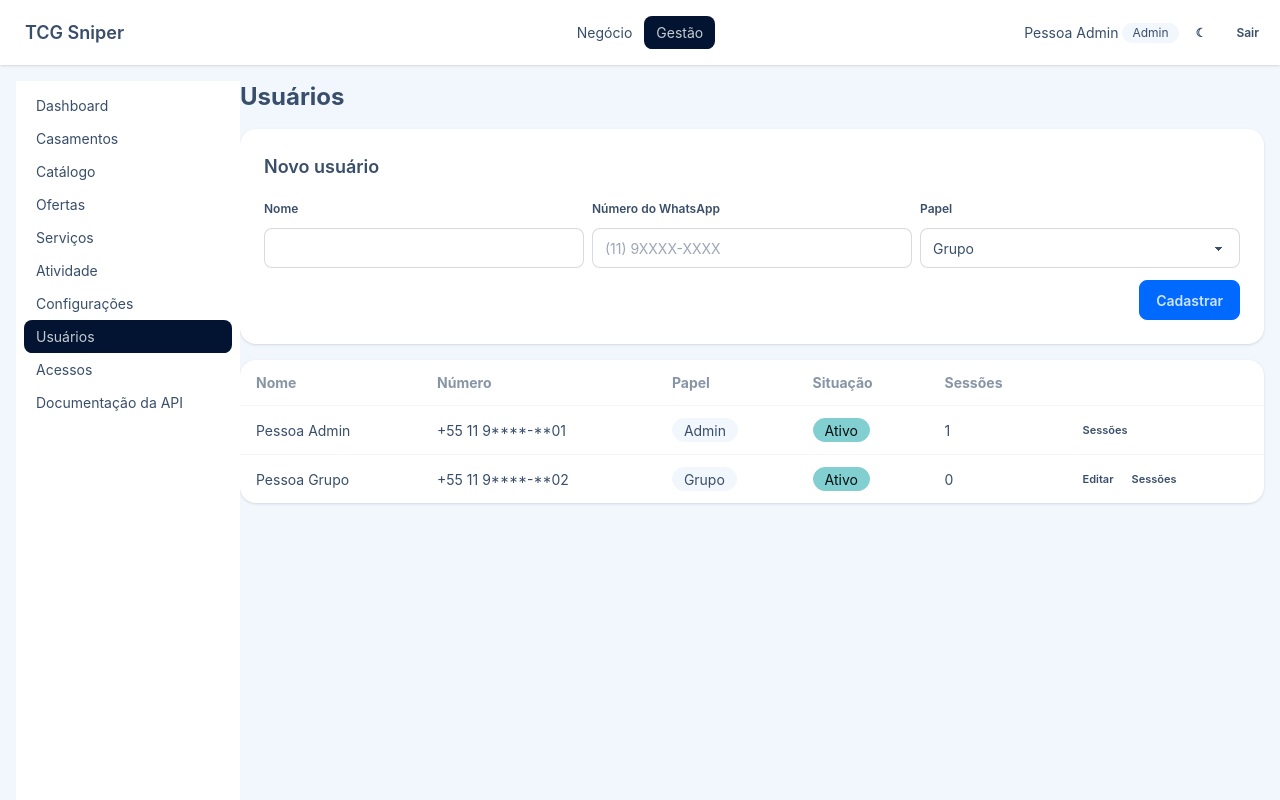
Test case: Gestão → Usuários › lista com número mascarado e cadastra
Check: the text "+55 11 9****-**02" is shown, box [421, 455, 656, 503]
In the field labelled "Nome": point(424, 248) [264, 228, 584, 268], type "Pessoa Nova"
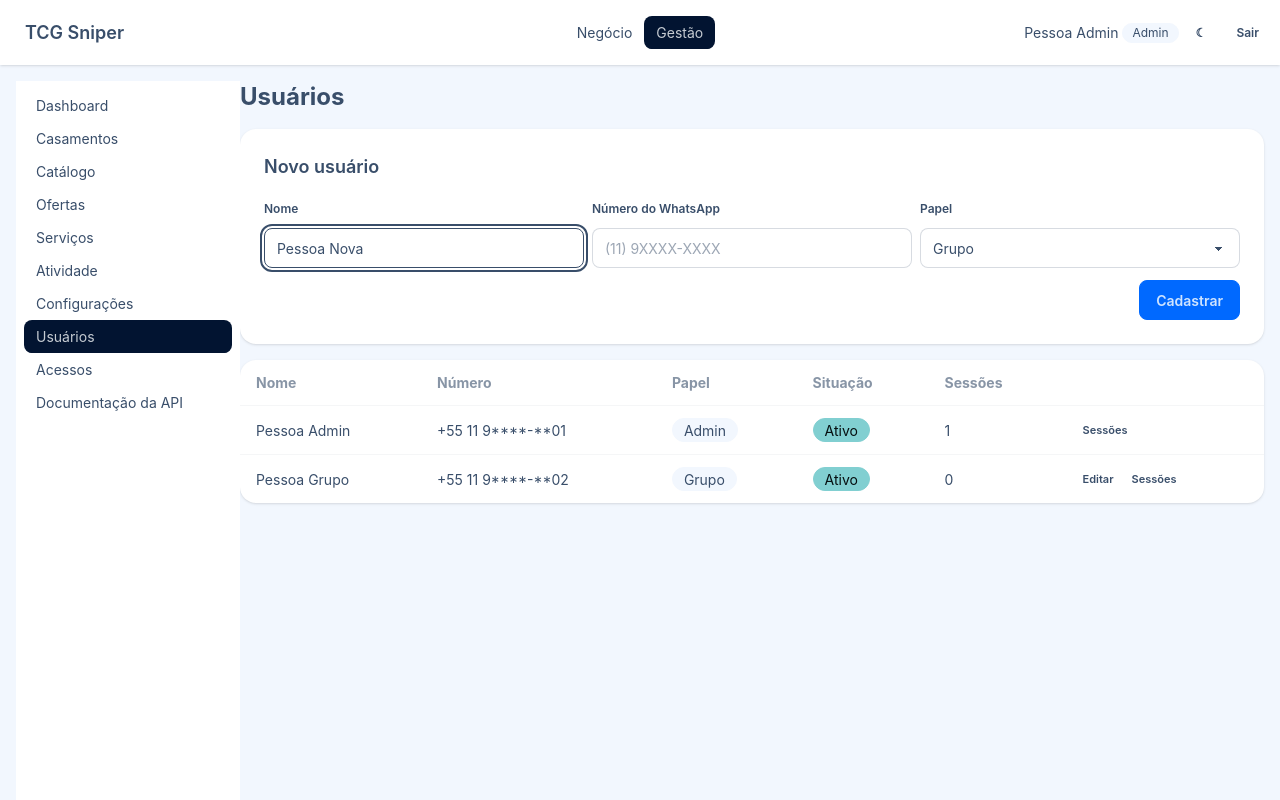
In the field labelled "Número do WhatsApp": point(752, 248) [592, 228, 912, 268], type "(11) 90000-0009"
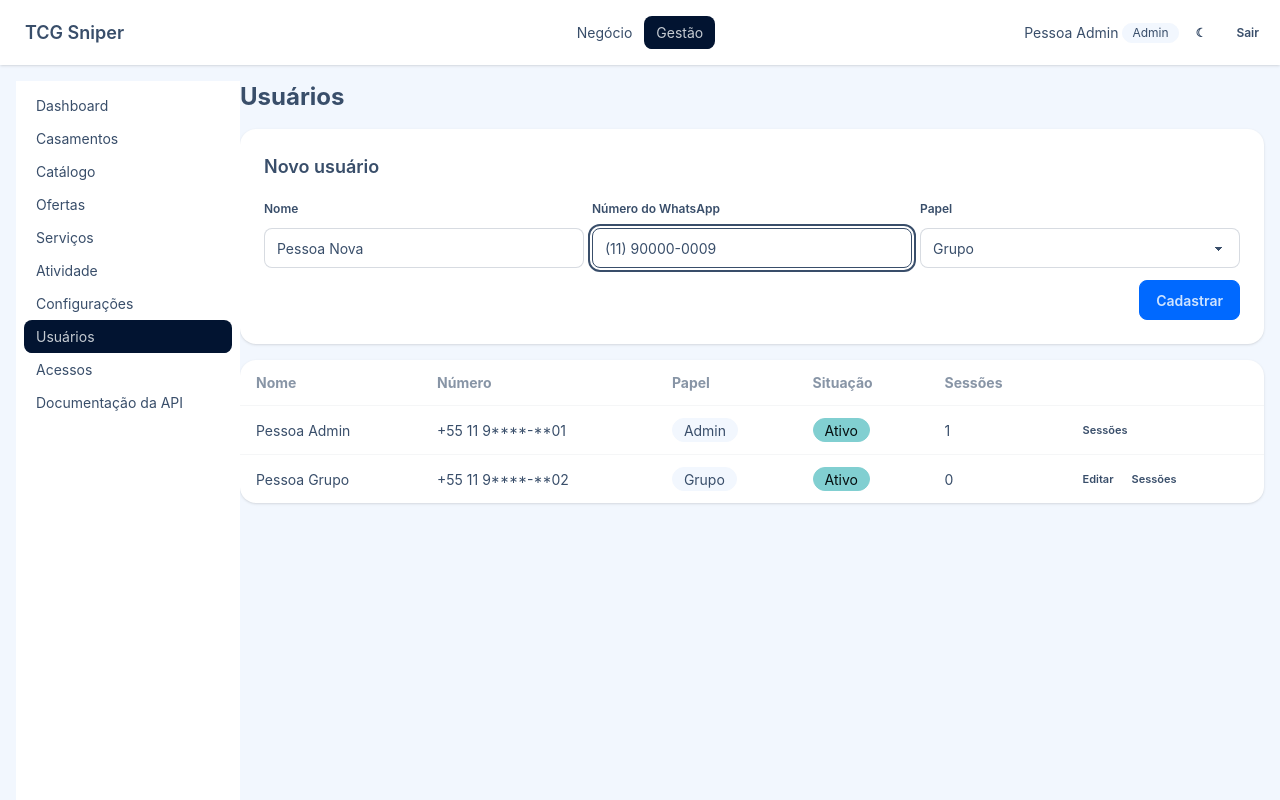
Select "Operador" in the dropdown labelled "Papel": point(1080, 248) [920, 228, 1240, 268]
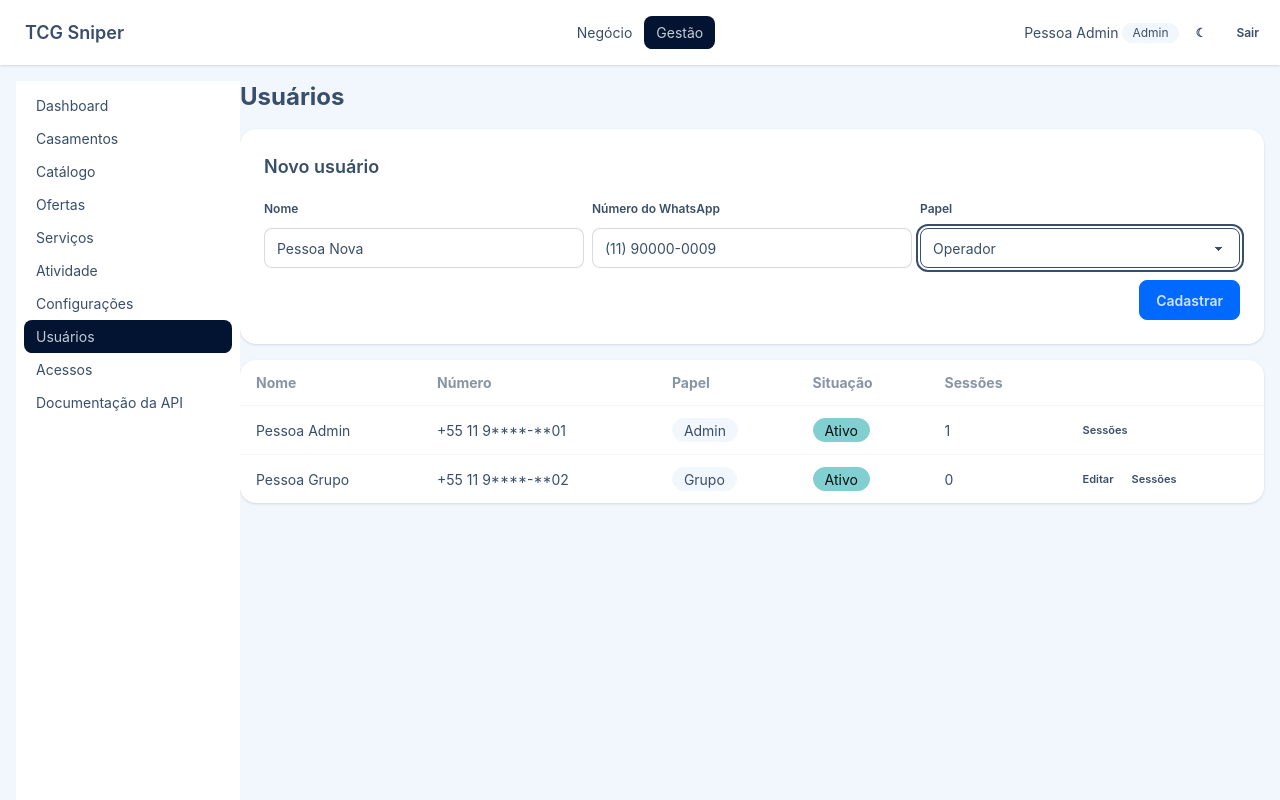
Click the button "Cadastrar": point(1190, 300) [1139, 280, 1240, 320]
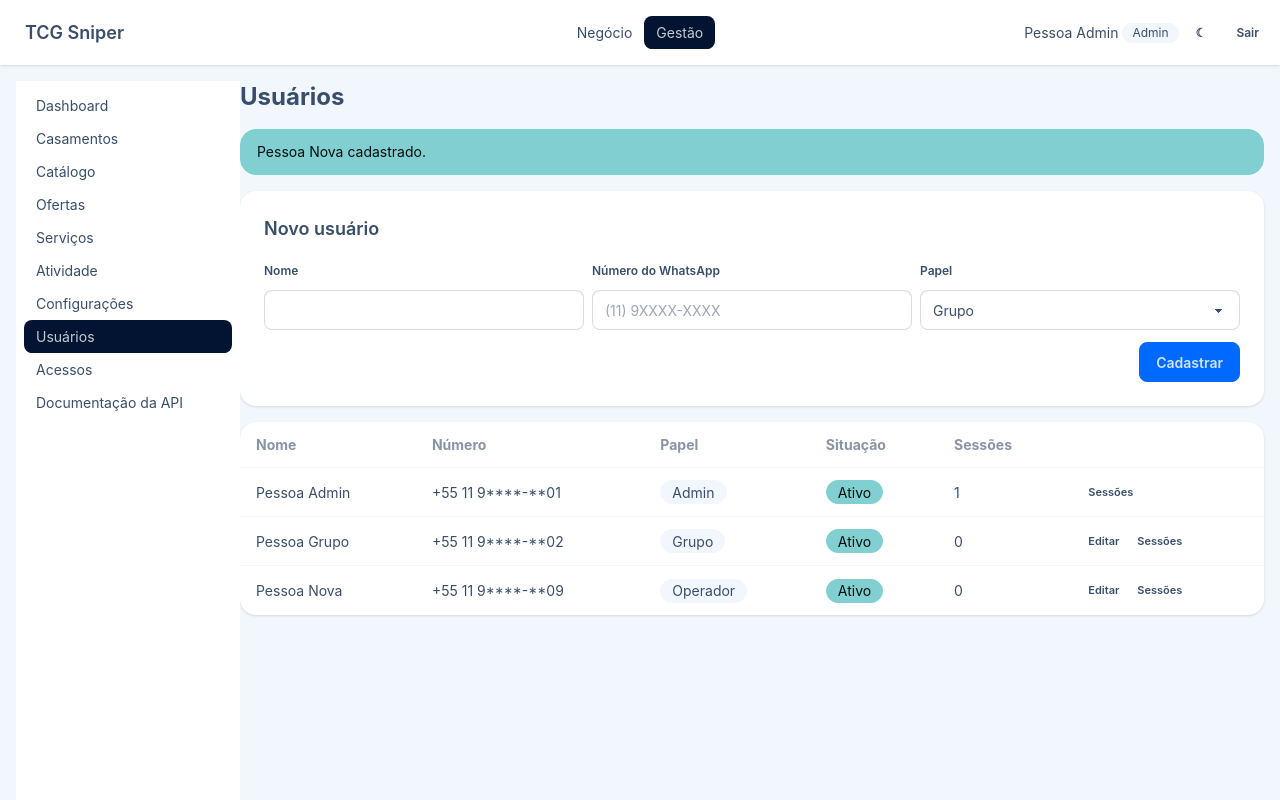
Check: the text "Pessoa Nova cadastrado." is shown, box [240, 129, 1264, 175]
Check: the text "+55 11 9****-**09" is shown, box [416, 566, 644, 614]
